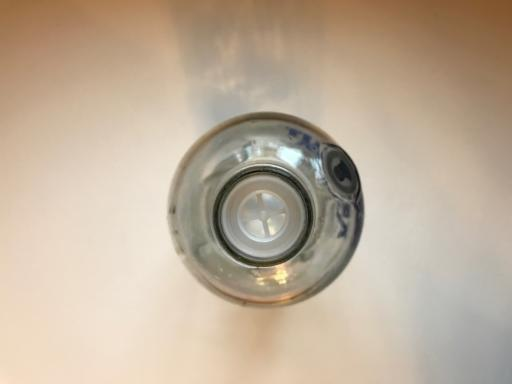botolkaca: (168, 111, 365, 308)
